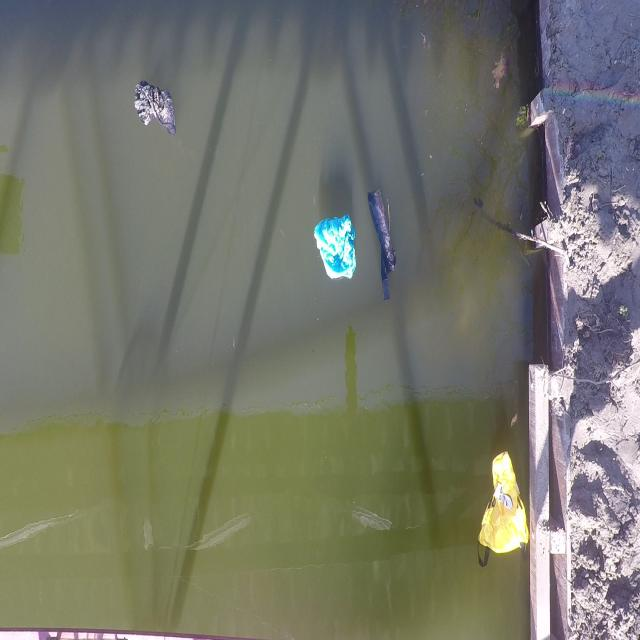Sac plastique: (472, 445, 532, 571), (364, 187, 403, 304), (309, 210, 359, 288), (130, 74, 179, 141)
